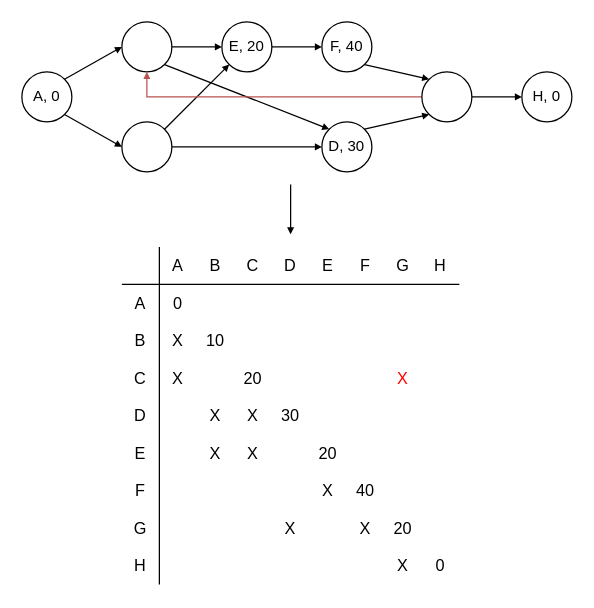
Some shapes in this 594 by 608 pixel diagram are drawn without their labels. The shapes that lost their labels are listed below. From the top down, each one's centre as x and y in pixels, then its label:
the point at 146,46: C, 20
the point at 446,96: G, 20
the point at 146,146: B, 10
